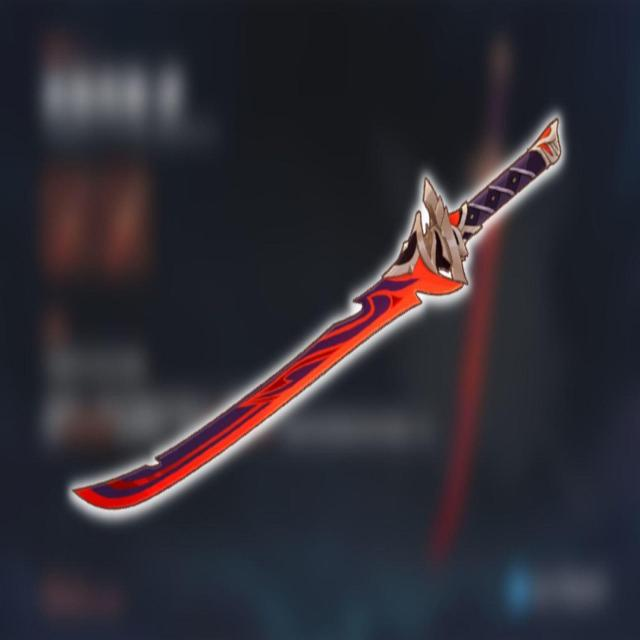weapon: (64, 110, 564, 535)
